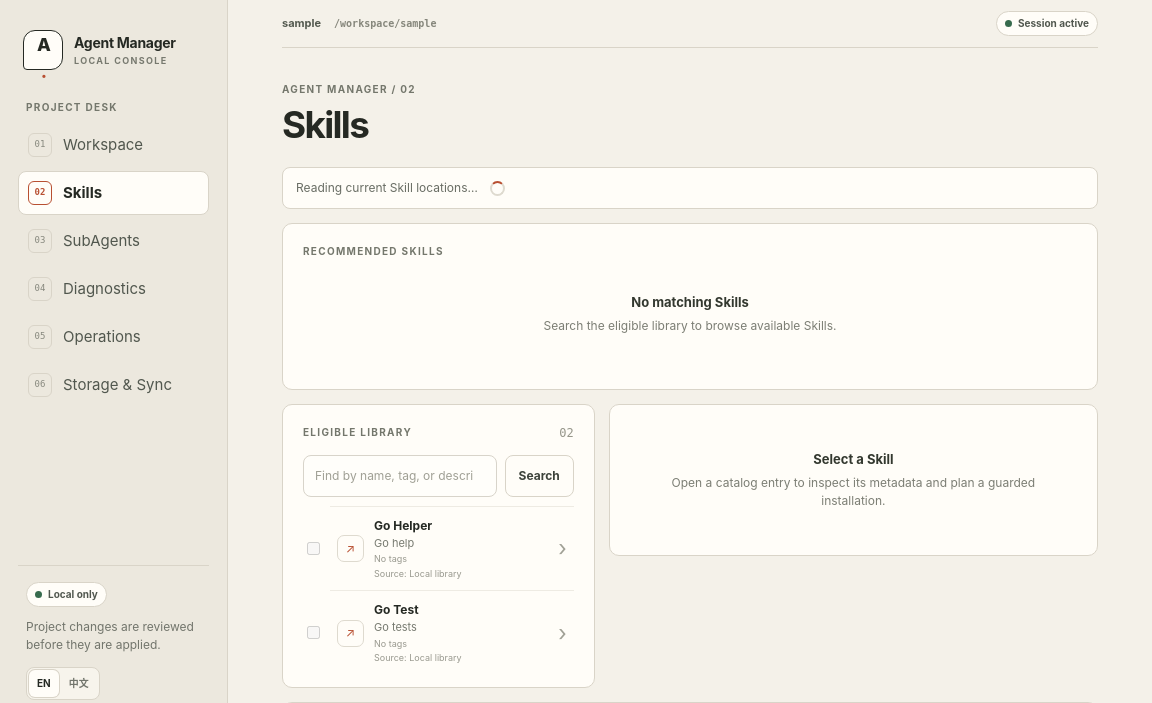
Test case: console entry and guarded installation › translates known legacy installation API error strings in Chinese
What coordinates should you click on to do the following:
click the checkbox named "Select go-helper"
I would click on:
 (314, 548)
Its box is [307, 542, 320, 555].
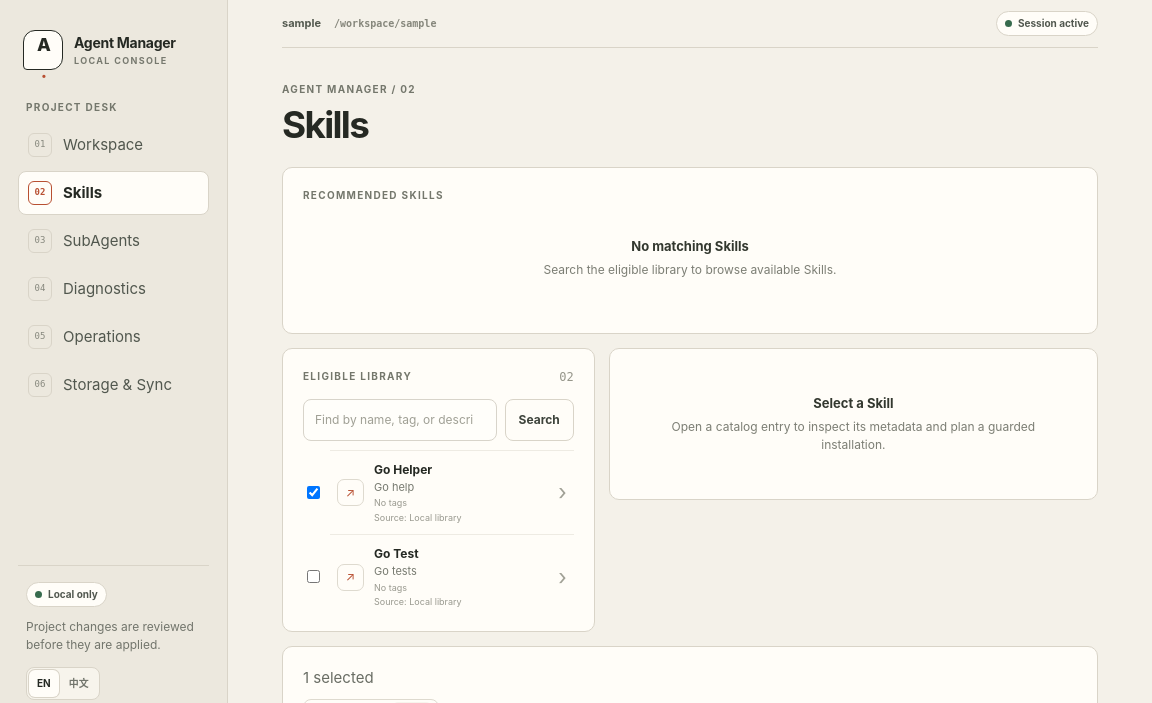
What coordinates should you click on to do the following:
click the checkbox named "Select go-test"
I would click on:
 (314, 577)
Its box is [307, 570, 320, 583].
(page scrolled)
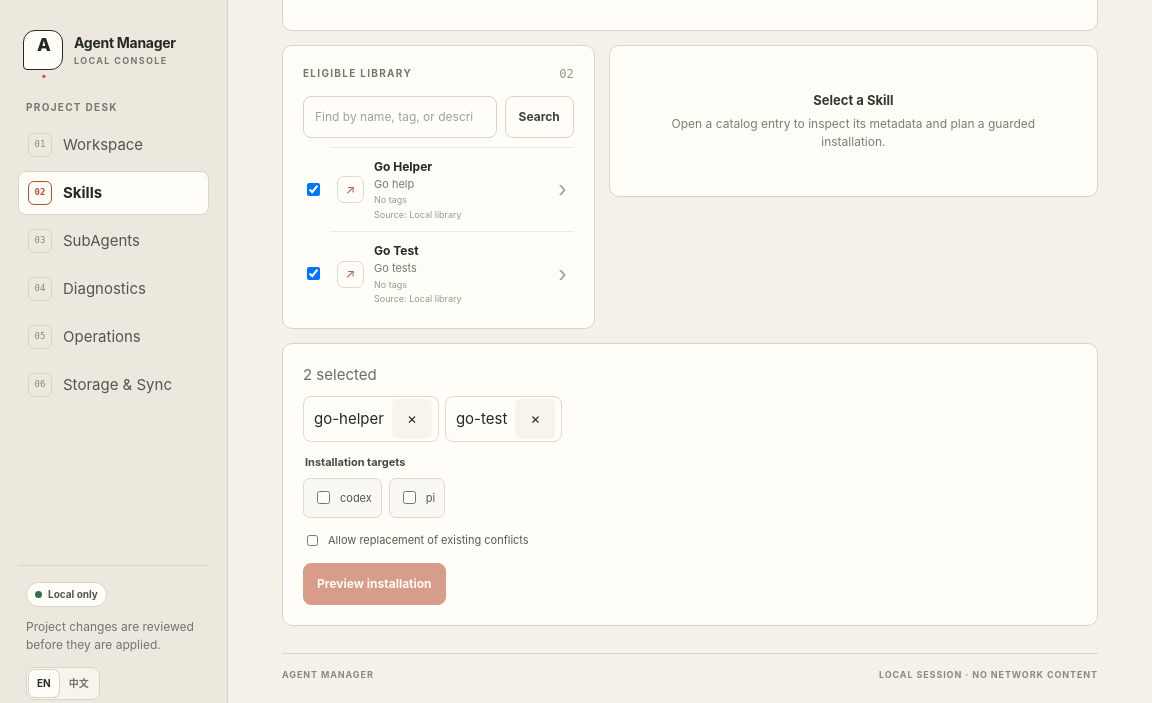
What coordinates should you click on to do the following:
click the checkbox labelled "pi"
I would click on:
 (409, 498)
Its box is [403, 491, 416, 504].
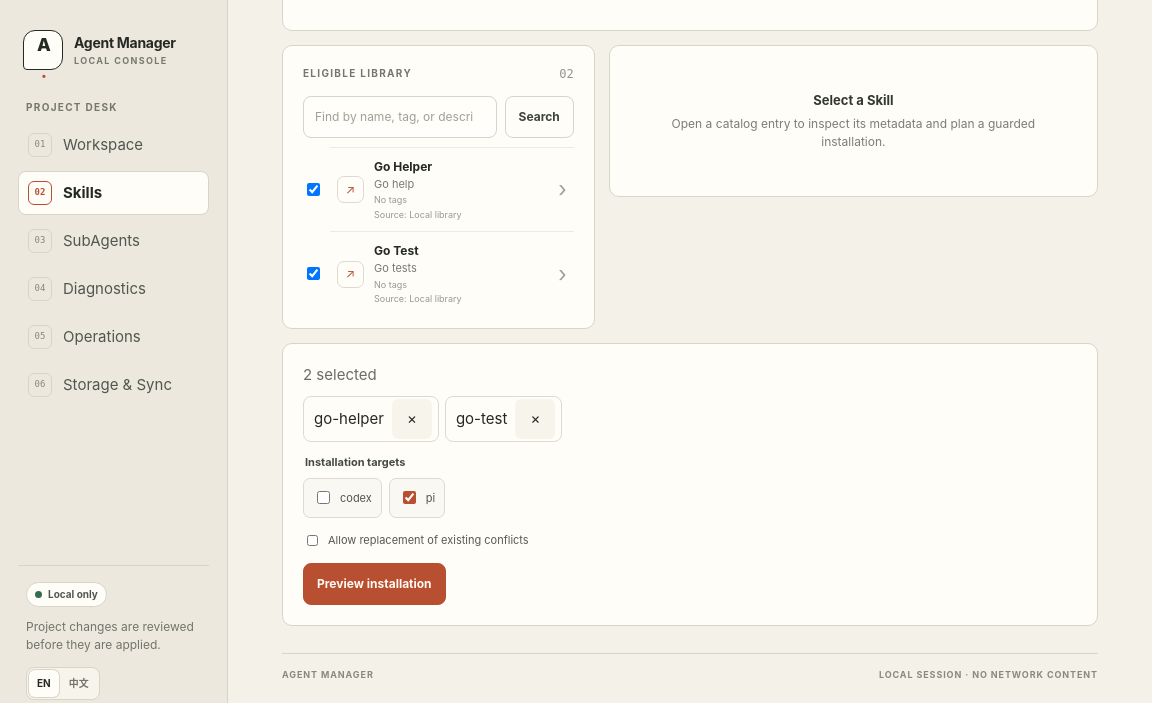
What coordinates should you click on to do the following:
click the button with aria-label "Simplified Chinese"
I would click on:
 (79, 684)
Its box is [61, 670, 97, 697].
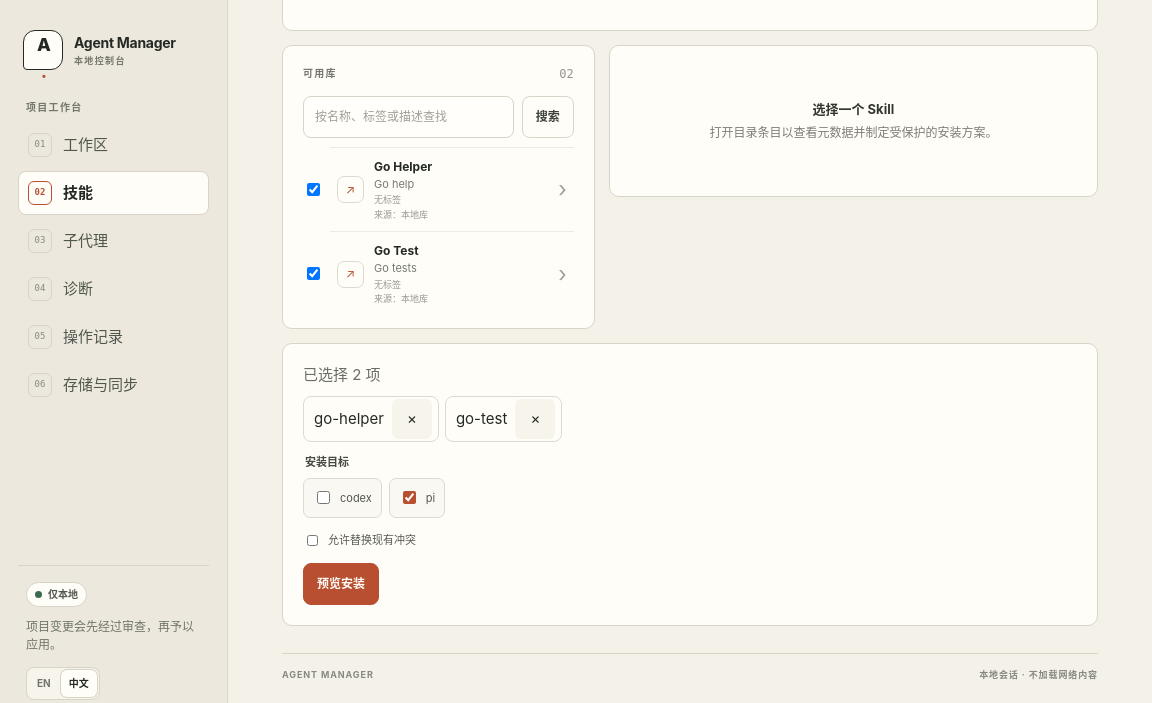
What coordinates should you click on to do the following:
click the button "预览安装"
I would click on:
 (341, 584)
Its box is [303, 563, 379, 605].
(page scrolled)
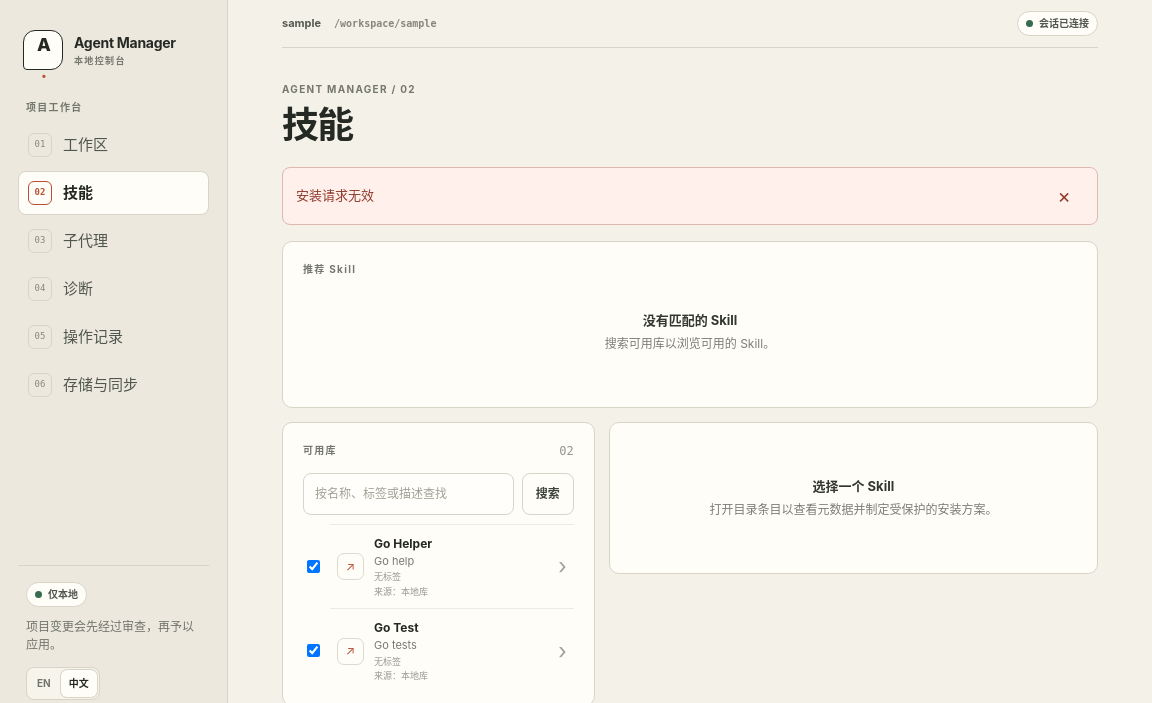
expect the message shows "安装请求无效": met, box [296, 187, 374, 203]
